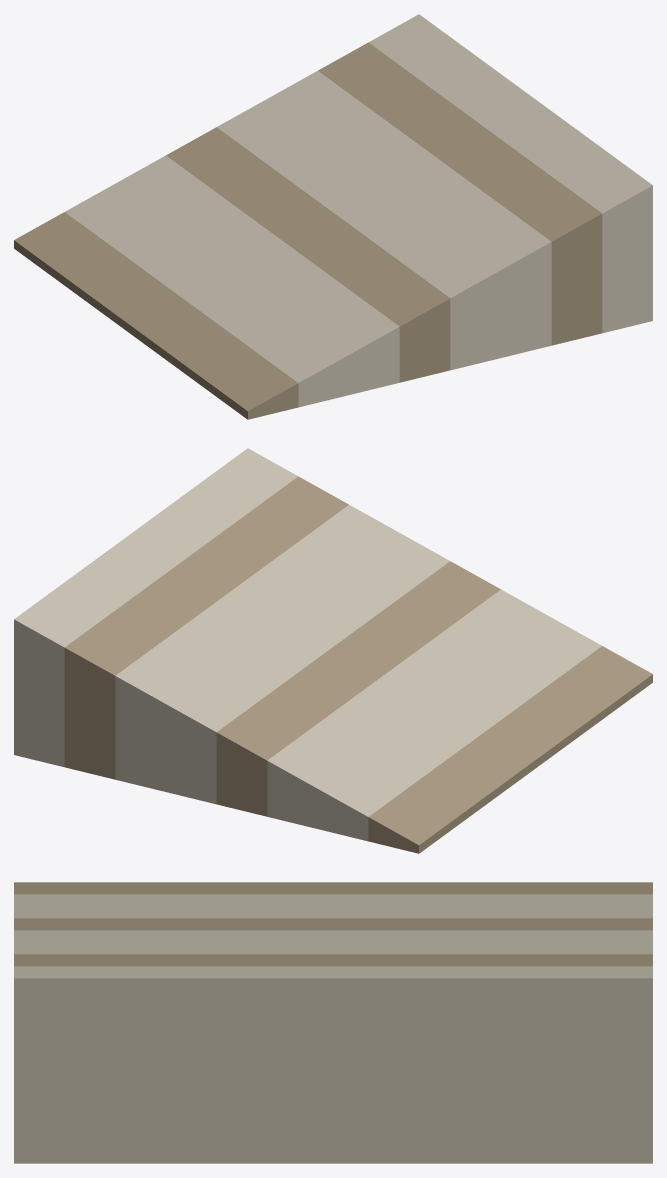
Rendered from Ramp__Plain.fbx.
3 views of the same model, one above another, from view 1: azimuth 30°, elevation 25°; view 2: azimuth 150°, elevation 25°; view 3: azimuth 270°, elevation 25° (orthographic). The views are drawn at different scales.
Visible parts, largest first — view 1: Ramp__Plain; view 2: Ramp__Plain; view 3: Ramp__Plain.
Part boxes in pixels (x1=…): Ramp__Plain: x1=14, y1=14, x2=652, y2=419; Ramp__Plain: x1=14, y1=448, x2=652, y2=853; Ramp__Plain: x1=14, y1=882, x2=652, y2=1163.
Size of the model in its own units: 400 by 128 by 400.
Materials: 1 (1 with a texture image).
